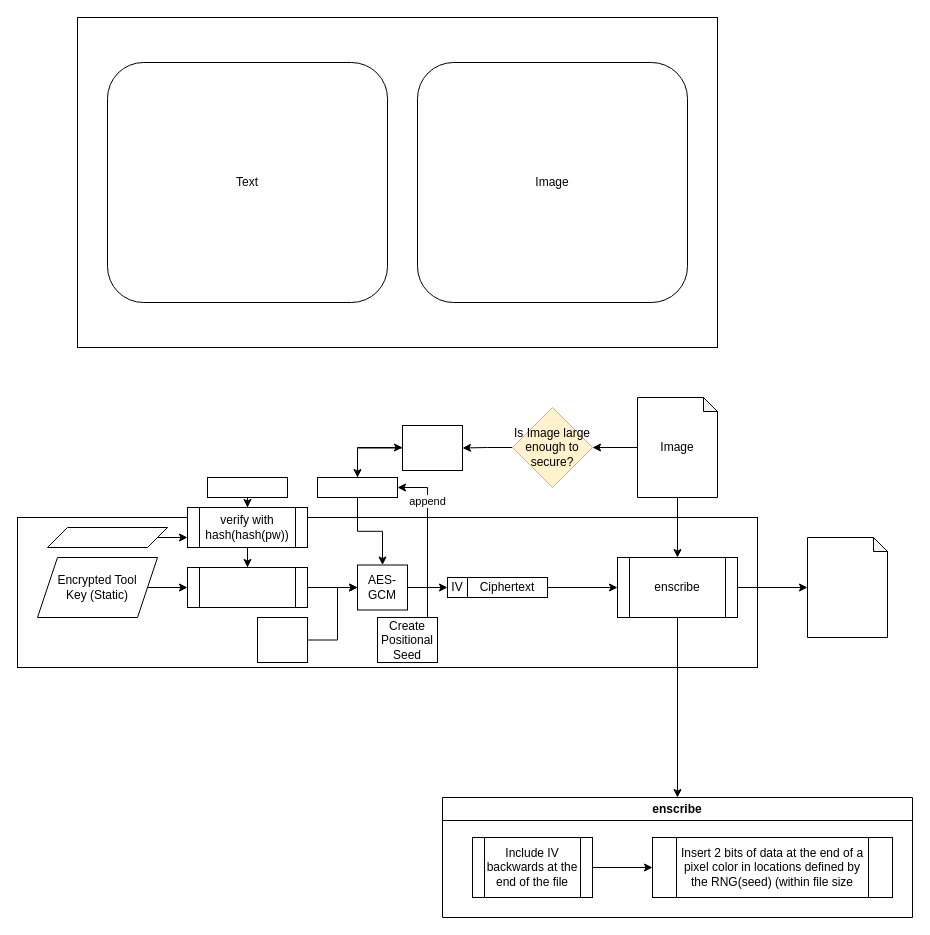
This 930x935 diagram has some shape labels left out. The shapes that lost their labels are listed below. From the top down, each one's box as (x1, y1, x2, y2) in pixels, then its label:
(402, 424, 462, 470): Determine Length
(206, 476, 288, 498): PASSWORD
(316, 476, 398, 498): Plaintext
(46, 526, 168, 548): hash(hash(pw))
(186, 566, 308, 608): decrypt with hash(pw)
(806, 536, 888, 638): Stenograph
(256, 616, 308, 662): Create IV
